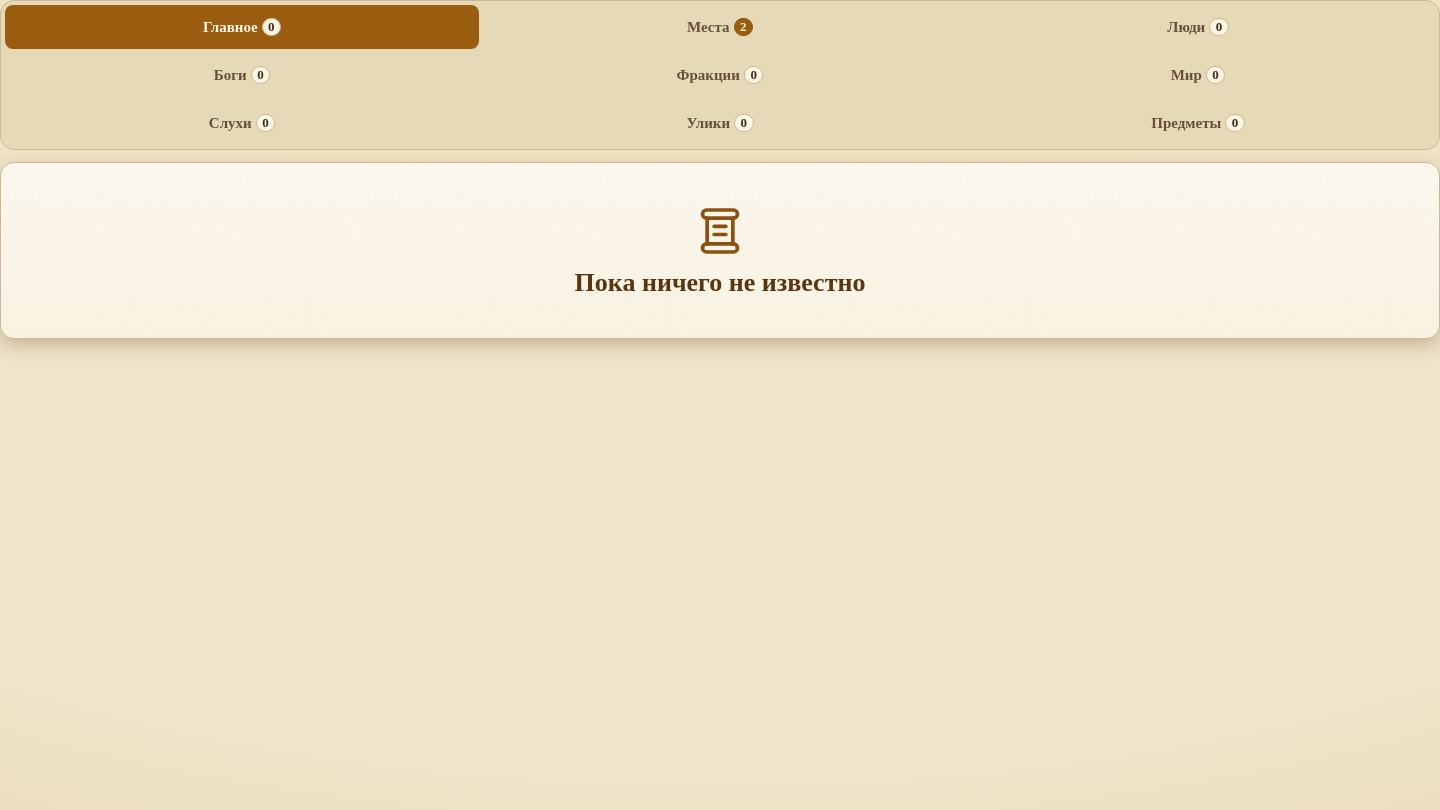
Scenario: карточка записи › место, где отряд уже был: «были здесь: раунд N» вместо «узнали»
What coordinates should you click on to do the following:
click the tab "Места 2"
I would click on:
 (720, 27)
Its box is [483, 5, 957, 49].
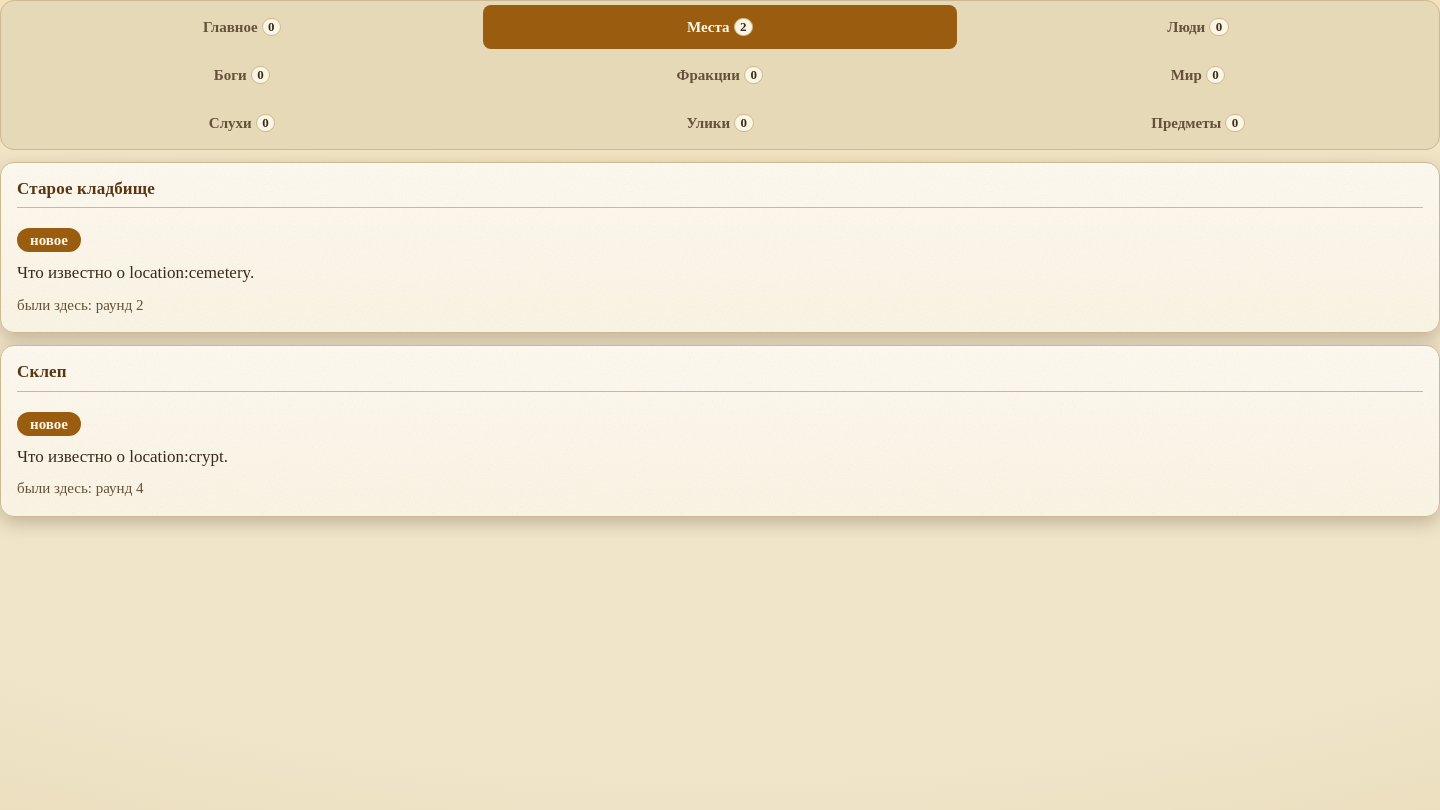
Result: the text "были здесь: раунд 2" is shown at [17, 297, 144, 313]
Result: the text "были здесь: раунд 4" is shown at [17, 480, 144, 496]
